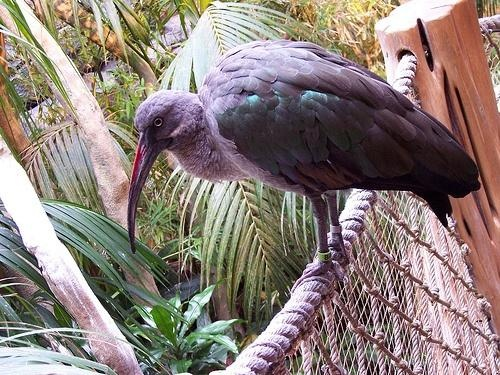bird: (125, 41, 479, 282)
